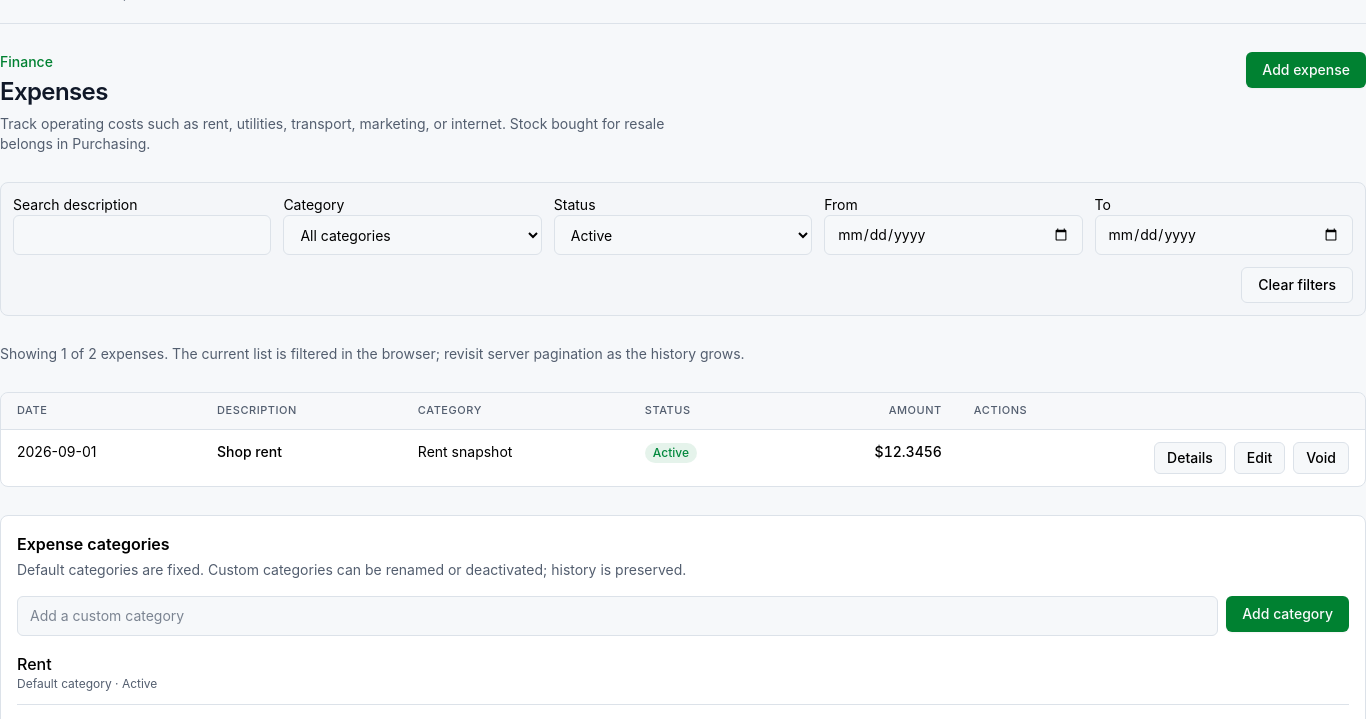
Scenario: Finance expense management › shows readable audit events, safe actor fallback, and void reason without raw JSON
This screenshot has width=1366, height=719.
Click the button with aria-label "View details for Shop rent". click: click(1190, 458)
box: [1154,442,1226,474]
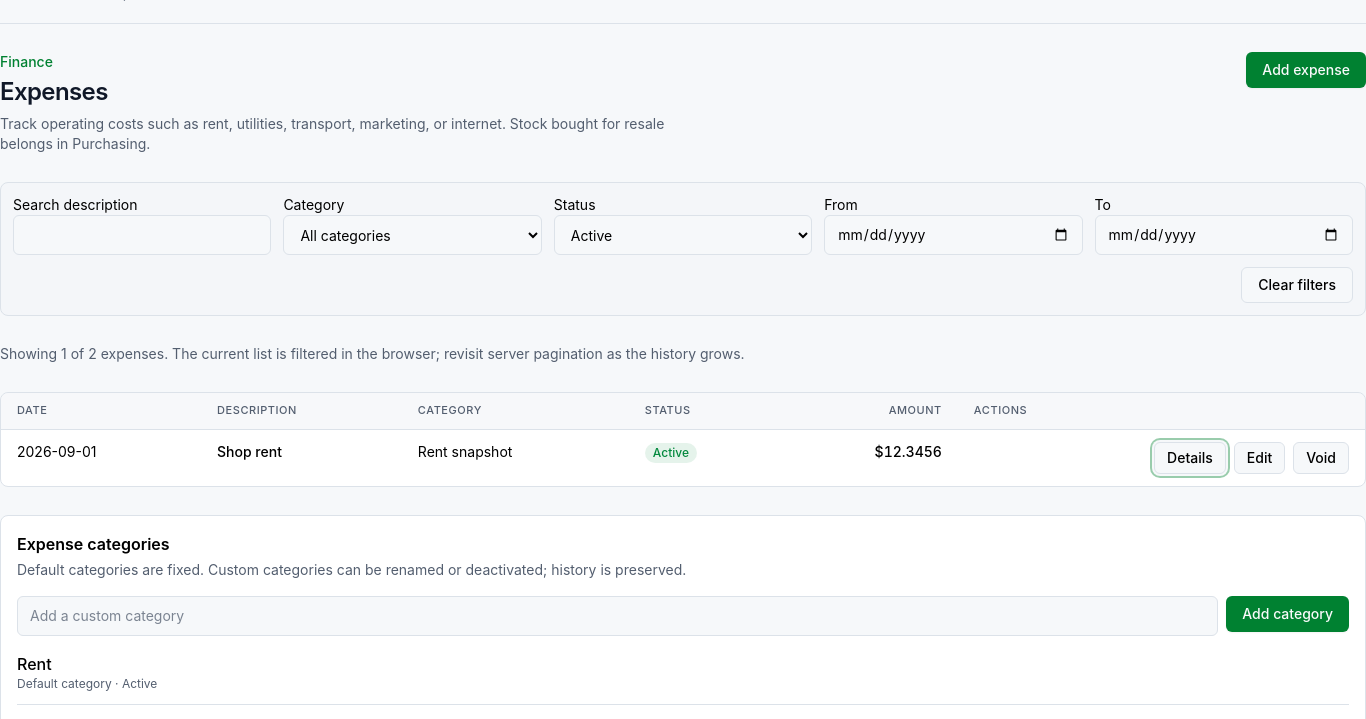
Select "Voided" in the dropdown labelled "Status". click: (683, 235)
box: [554,215,812,255]
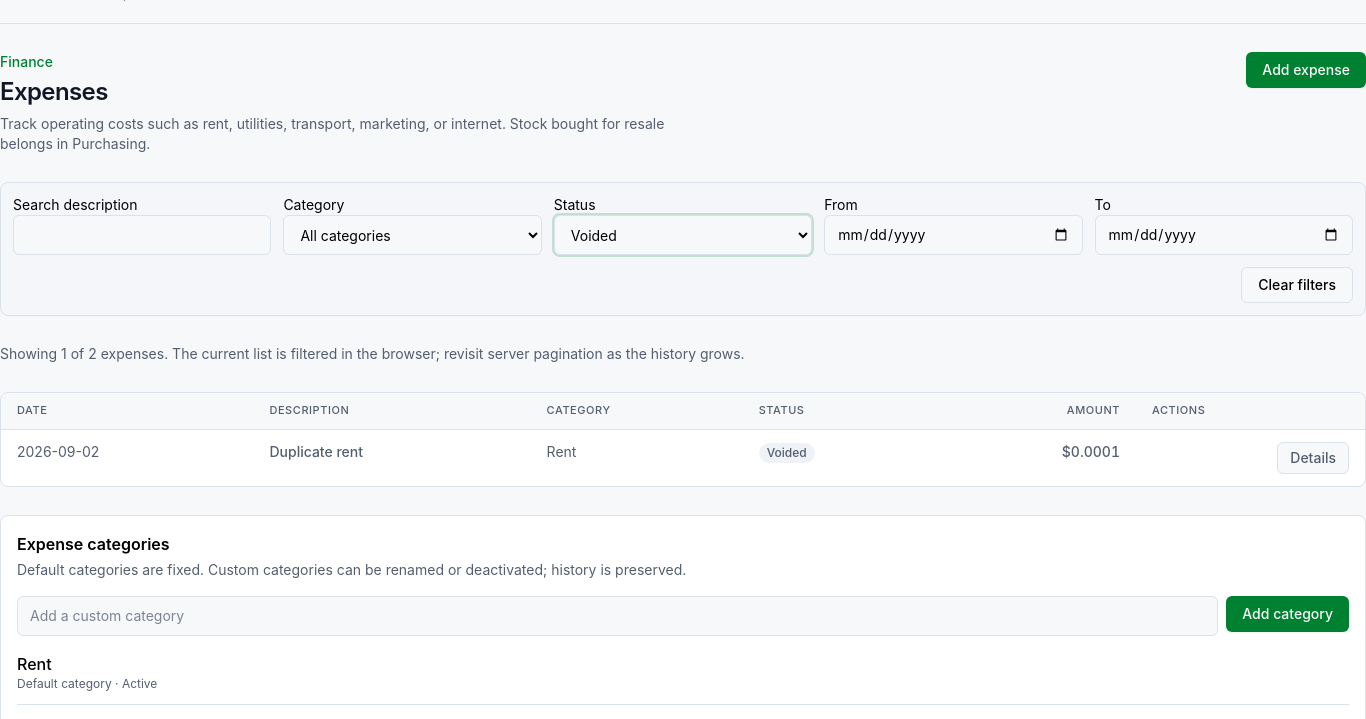
Click the button with aria-label "View details for Duplicate rent". click: click(1313, 458)
box: [1277,442,1349,474]
(page scrolled)
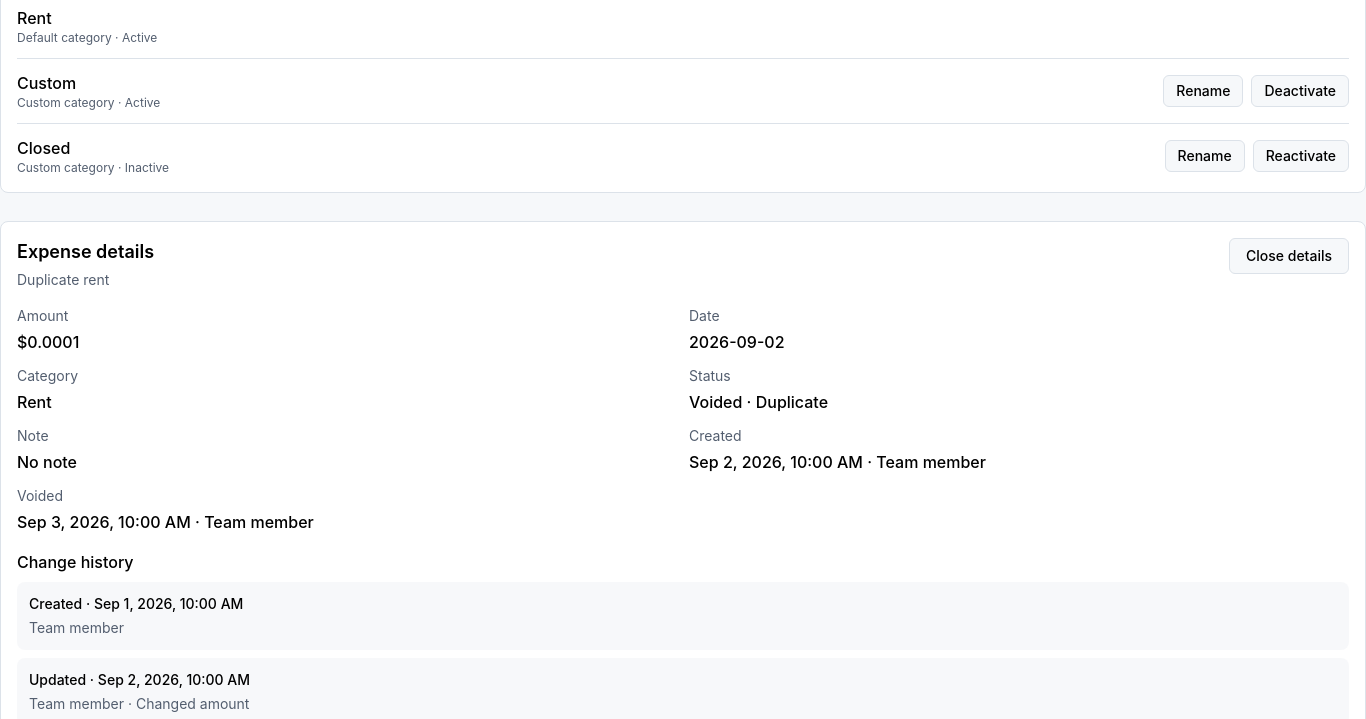
Now the text "Voided · Duplicate" is shown, box [689,392,828,412]
